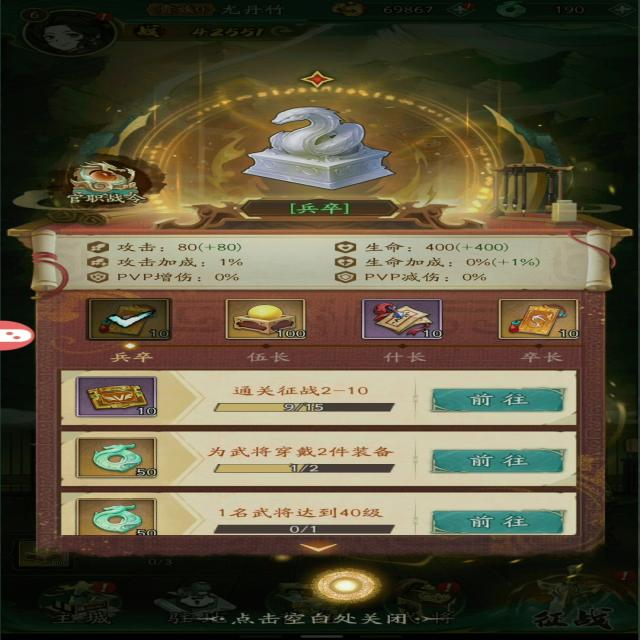hint-guide: (213, 605, 425, 634)
operation-RankBattletoken: (56, 149, 144, 198)
operation-enter: (411, 501, 589, 539), (417, 440, 579, 481), (421, 380, 579, 418)
